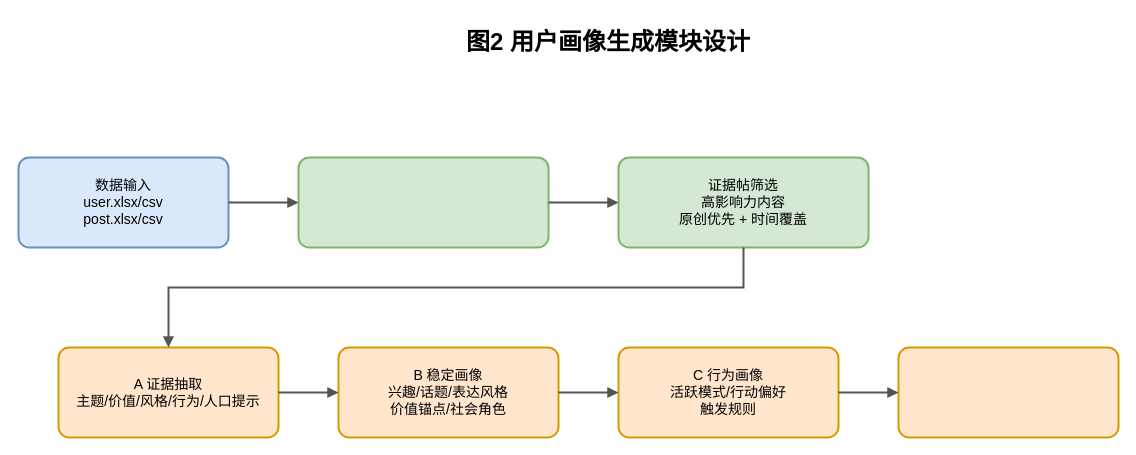
The diagram is 1136 pixels wide and 455 high, and some of its shapes have lost their labels. The shapes that lost their labels are listed below. From the top down, each one's centre as x and y in pixels, then its label:
the point at 423,202: 统计特征计算 活跃度/影响力/互动均值 account_influence
the point at 1008,392: D Agent 画像压缩 summary + rules focus topics
